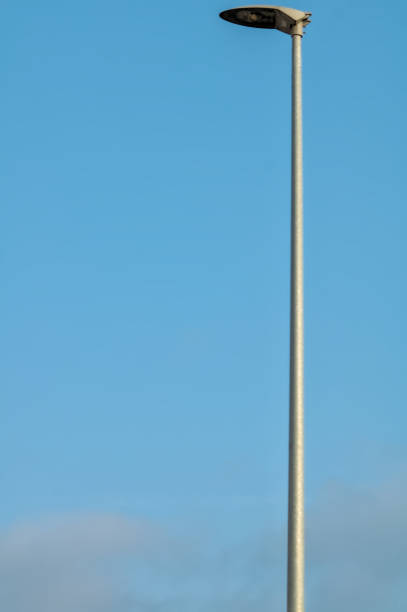light_pole: (286, 55, 306, 612)
